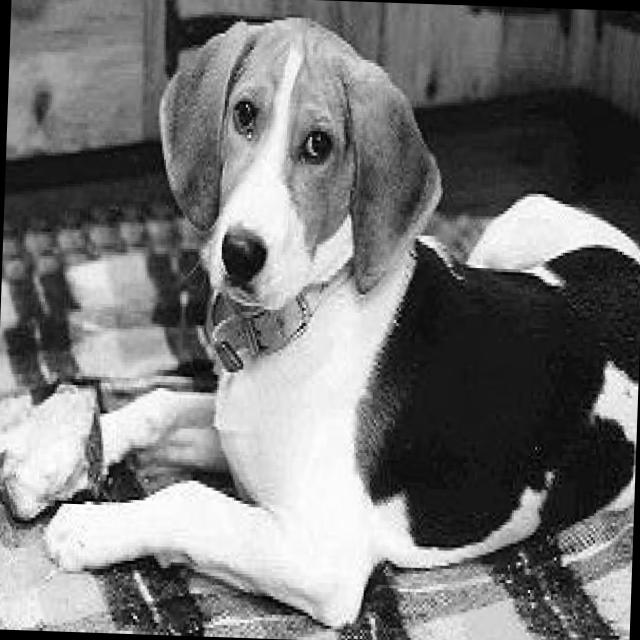laying down: (29, 0, 640, 640)
